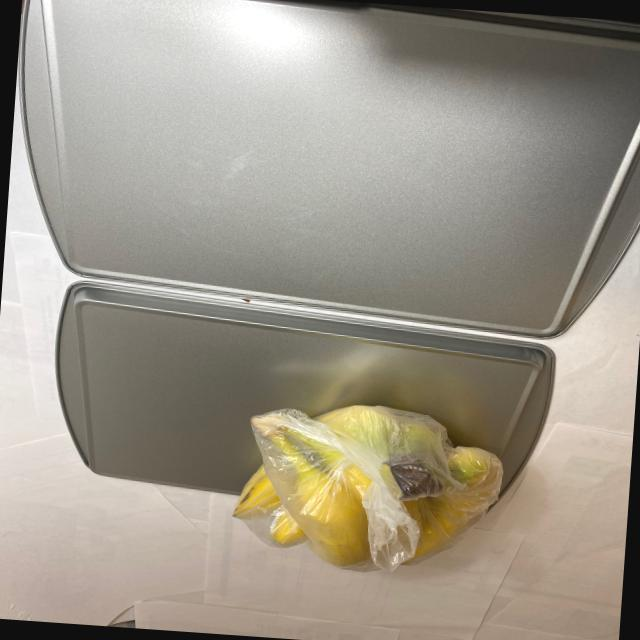banana: (226, 388, 515, 584)
